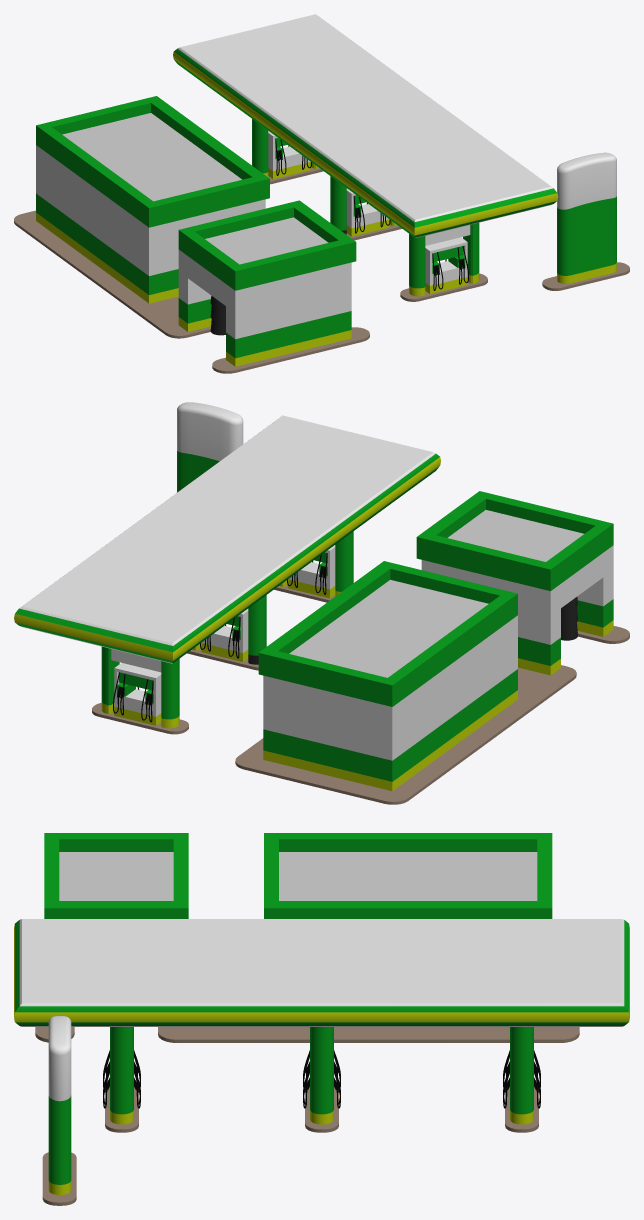
The model's file is gasolinera (3x3).fbx.
3 renders of one model, top to bottom at view 1: azimuth 30°, elevation 25°; view 2: azimuth 150°, elevation 25°; view 3: azimuth 270°, elevation 25°, orthographic. The views are drawn at different scales.
Parts seen in each view (by area): view 1: PublicBuilding_GasStation; view 2: PublicBuilding_GasStation; view 3: PublicBuilding_GasStation.
Part boxes in pixels (left/top/right/bottom): PublicBuilding_GasStation: left=14, top=14, right=629, bottom=373; PublicBuilding_GasStation: left=14, top=402, right=629, bottom=804; PublicBuilding_GasStation: left=14, top=833, right=629, bottom=1205.
Bounding box in the file's own units: 489 × 134 × 493.
